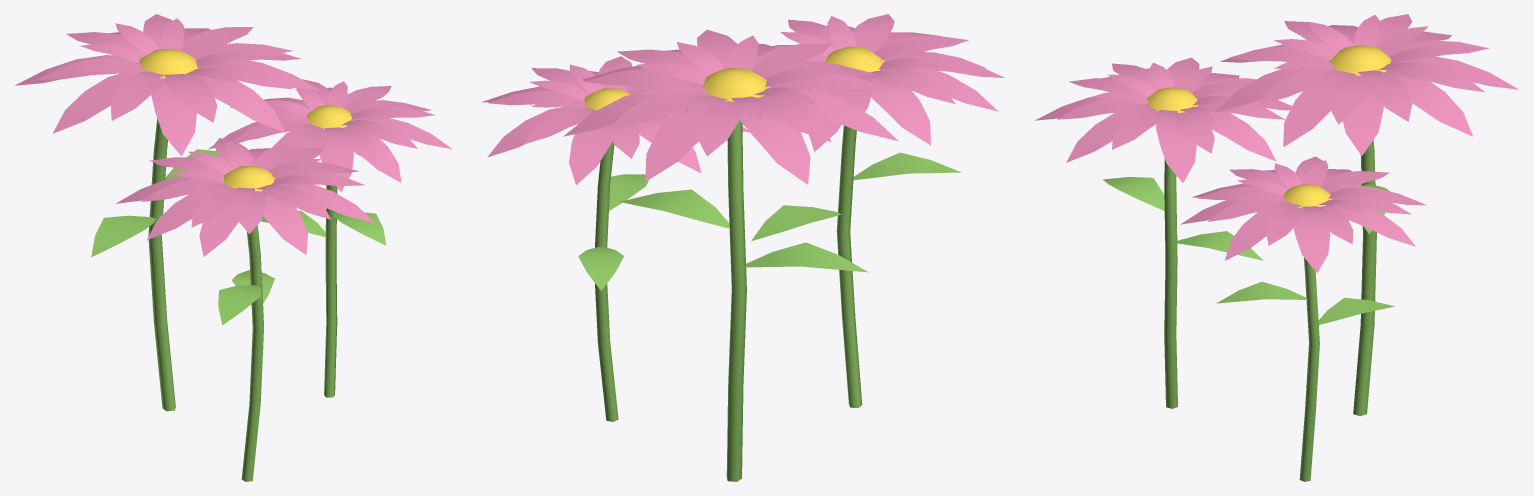
The model's file is flowers03_pink.fbx.
3 views of the same model, side by side, from view 1: azimuth 30°, elevation 25°; view 2: azimuth 150°, elevation 25°; view 3: azimuth 270°, elevation 25° (orthographic). The views are drawn at different scales.
Parts seen in each view (by area): view 1: flowers03_pink; view 2: flowers03_pink; view 3: flowers03_pink.
Part boxes in pixels (bbox=[...]): flowers03_pink: bbox=[15, 14, 452, 481]; flowers03_pink: bbox=[482, 14, 1004, 481]; flowers03_pink: bbox=[1035, 14, 1518, 481].
Size of the model in its own units: 1.09 by 0.9966 by 1.21.
